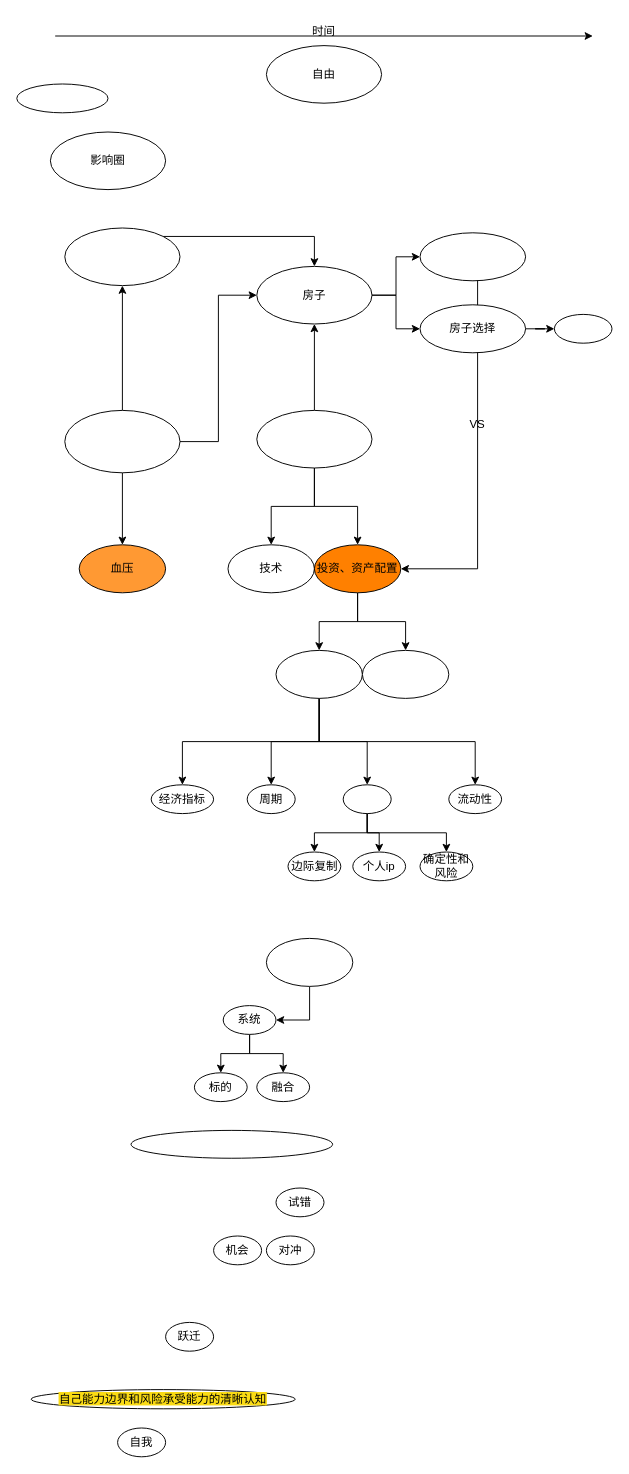
Some shapes in this 629 by 1474 pixel diagram are drawn without their labels. Here are the shapes that lost their labels. From the top down, the centre of each, then its label:
At point (62, 98): "爱好".
At point (122, 256): "对象成家".
At point (472, 256): "首付".
At point (582, 328): "装修".
At point (122, 441): "身体稳定性".
At point (314, 438): "收入稳定性".
At point (318, 673): "股市".
At point (405, 673): "保险".
At point (366, 799): "杠杆".
At point (309, 961): "执行".
At point (231, 1143): "抗性 韧性 扩展 再平衡".
